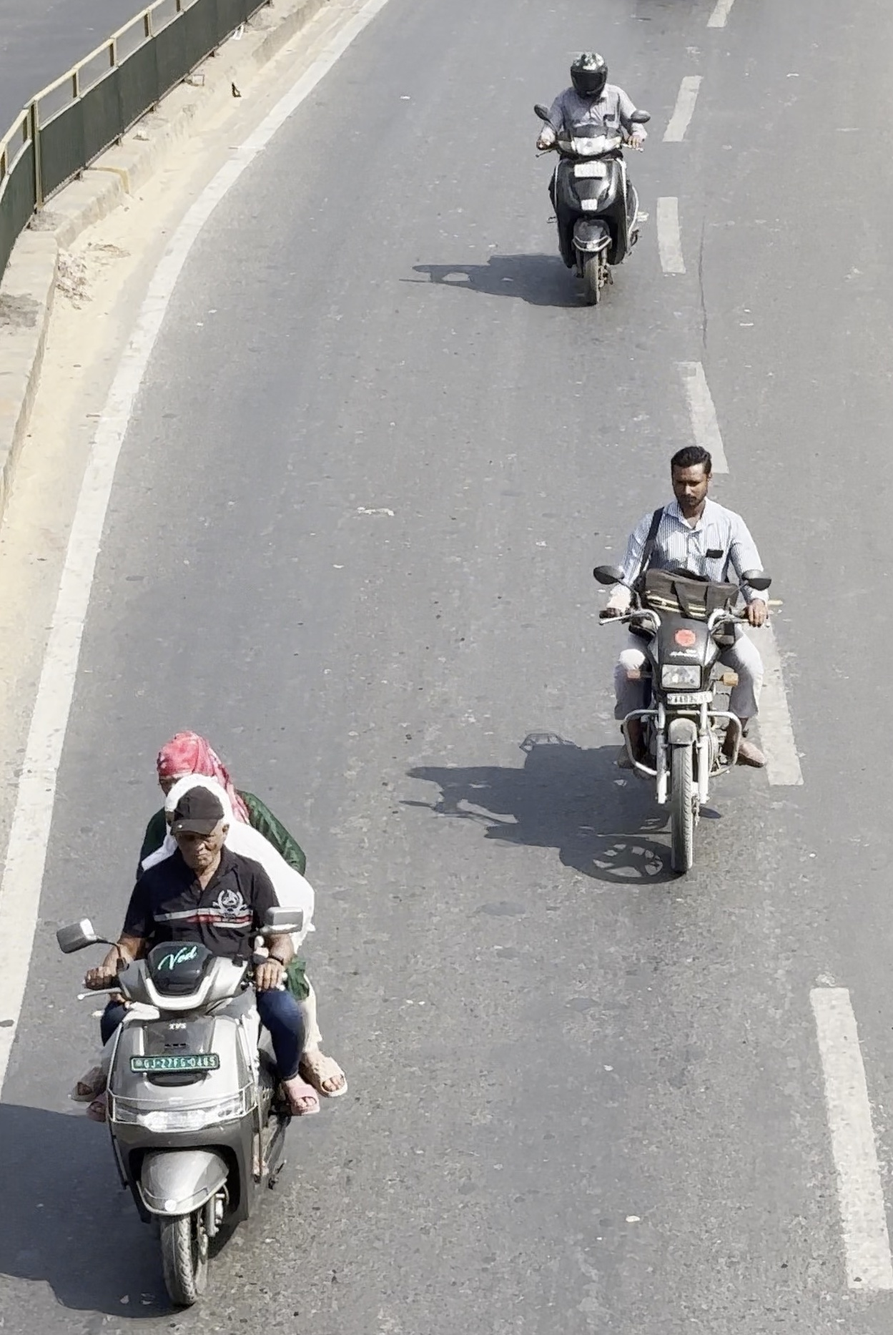BikeWithRider: (37, 704, 364, 1318), (567, 423, 819, 907), (506, 35, 674, 319)
Helmet: (570, 52, 607, 95)
NoHelmet: (150, 729, 220, 807), (168, 788, 227, 870), (157, 772, 225, 842), (668, 441, 716, 510)
